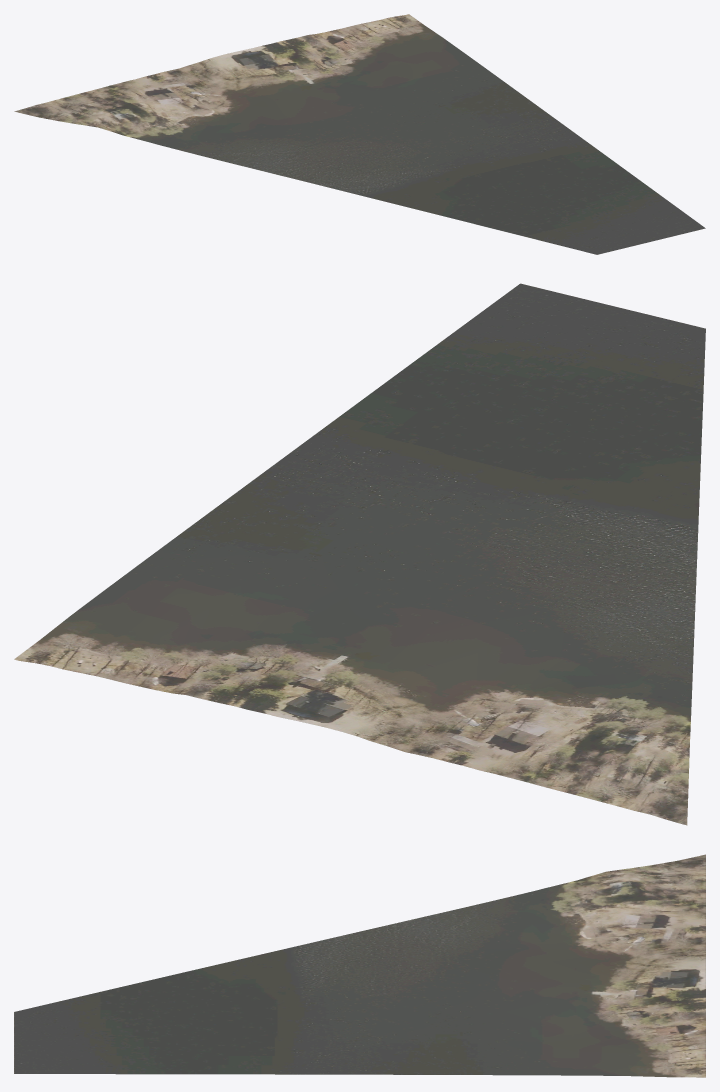
File: CM_Terrain_24492097_6813650.fbx
3 renders of one model, top to bottom at view 1: azimuth 30°, elevation 25°; view 2: azimuth 150°, elevation 25°; view 3: azimuth 270°, elevation 25°, orthographic. The views are drawn at different scales.
Parts seen in each view (by area): view 1: CM_Terrain_24492097_6813650_LOD0; view 2: CM_Terrain_24492097_6813650_LOD0; view 3: CM_Terrain_24492097_6813650_LOD0.
Part boxes in pixels (x1,y1,x2,y2): CM_Terrain_24492097_6813650_LOD0: (14,14,705,254); CM_Terrain_24492097_6813650_LOD0: (14,283,705,825); CM_Terrain_24492097_6813650_LOD0: (14,854,705,1077).
Size of what is drawn, in the model's own units: 157 by 3.16 by 205.
